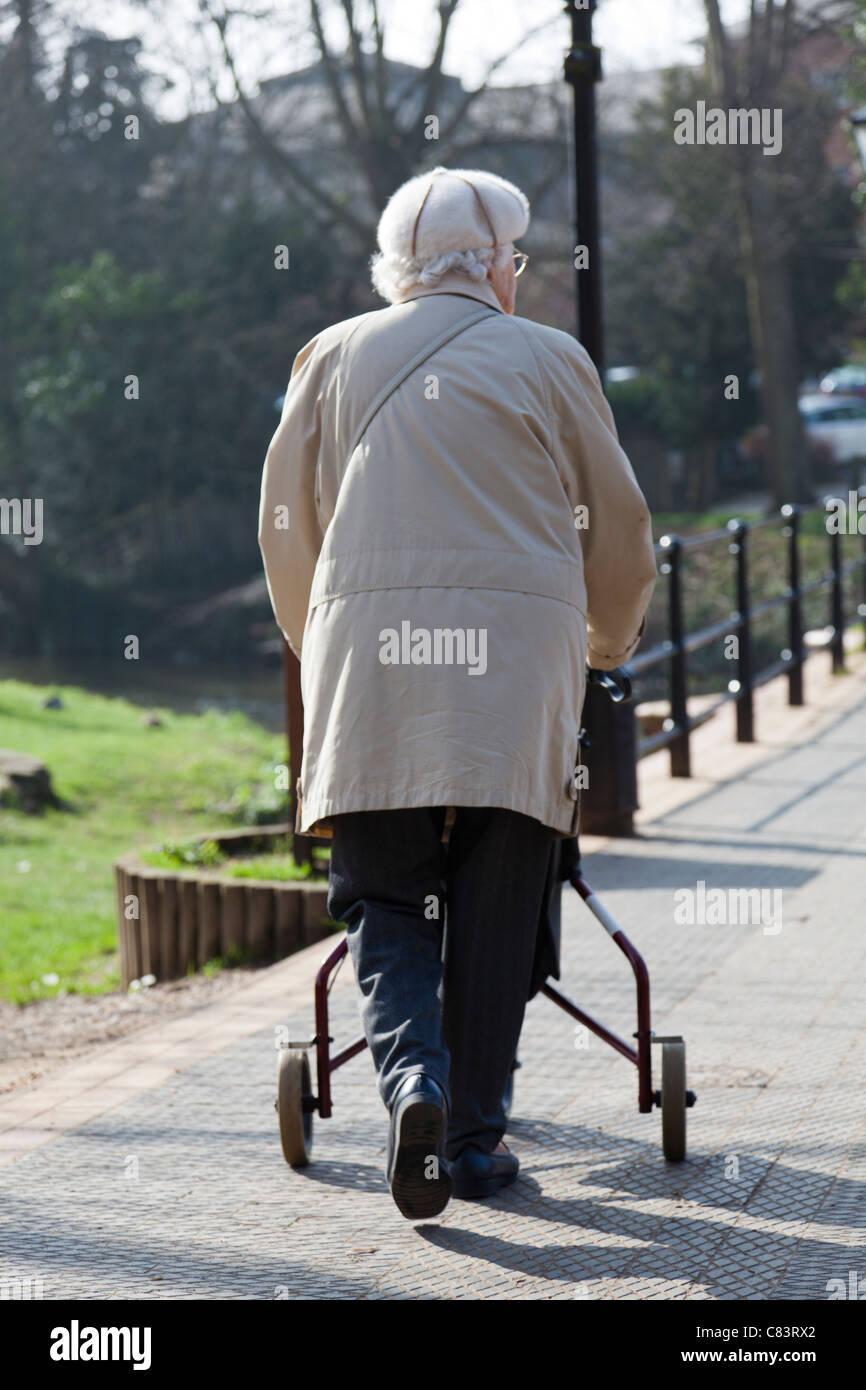walking_frame: (257, 166, 697, 1221)
